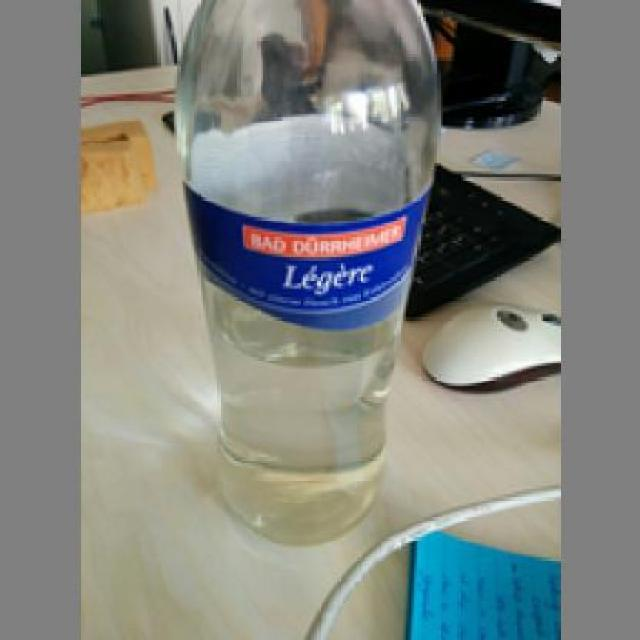Water: (169, 0, 440, 540)
